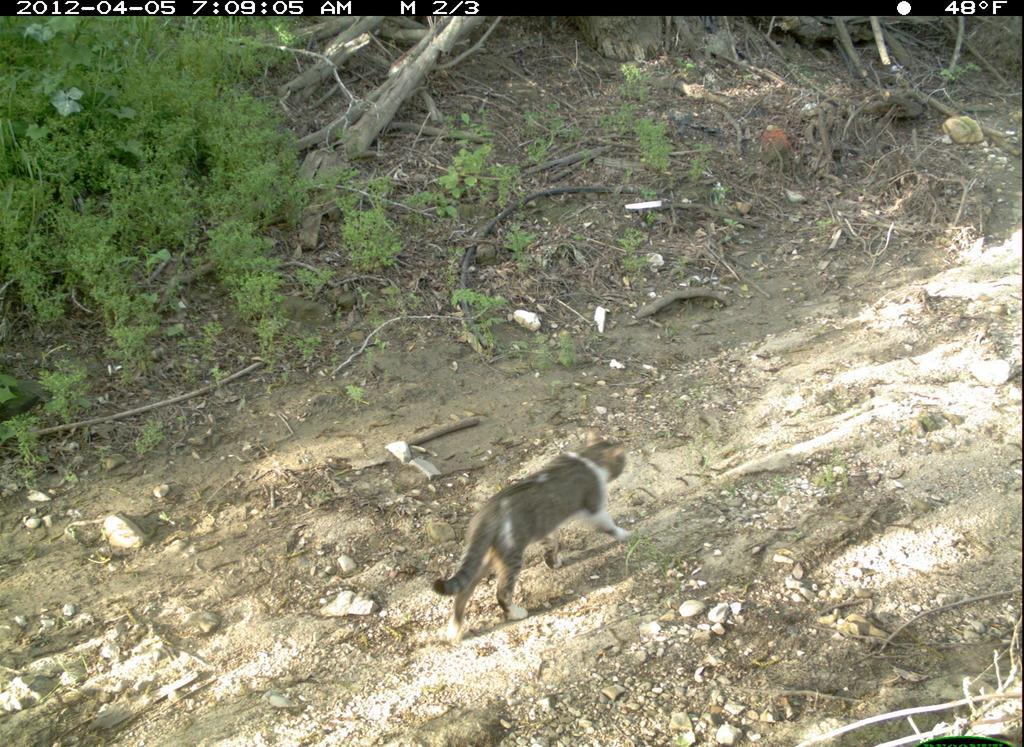cat: (427, 429, 647, 652)
